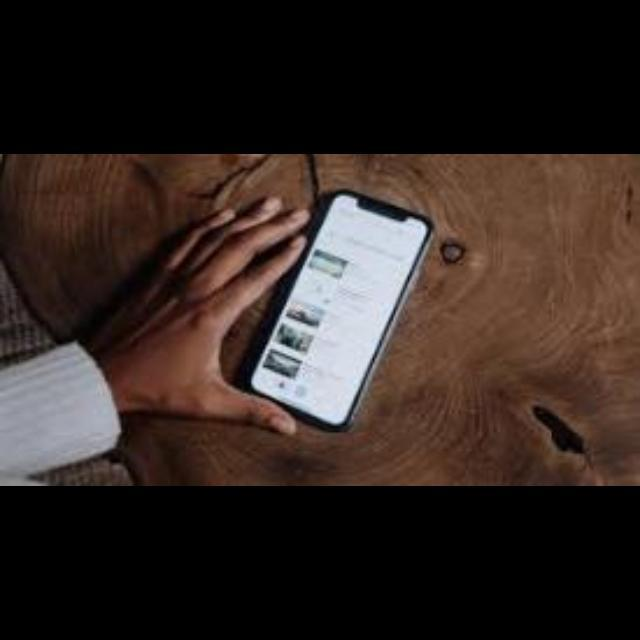Phone: (245, 191, 435, 433)
